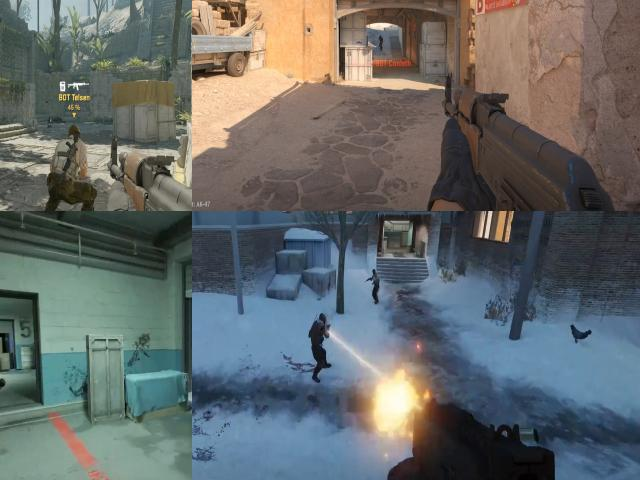CT: (309, 303, 331, 359), (378, 34, 382, 50)
CT-Head: (311, 310, 329, 332), (380, 35, 381, 37)
Dead: (44, 112, 66, 129), (0, 363, 12, 390)
T: (48, 121, 91, 211), (369, 266, 382, 300)
T-Head: (64, 123, 82, 148), (372, 268, 380, 279)
